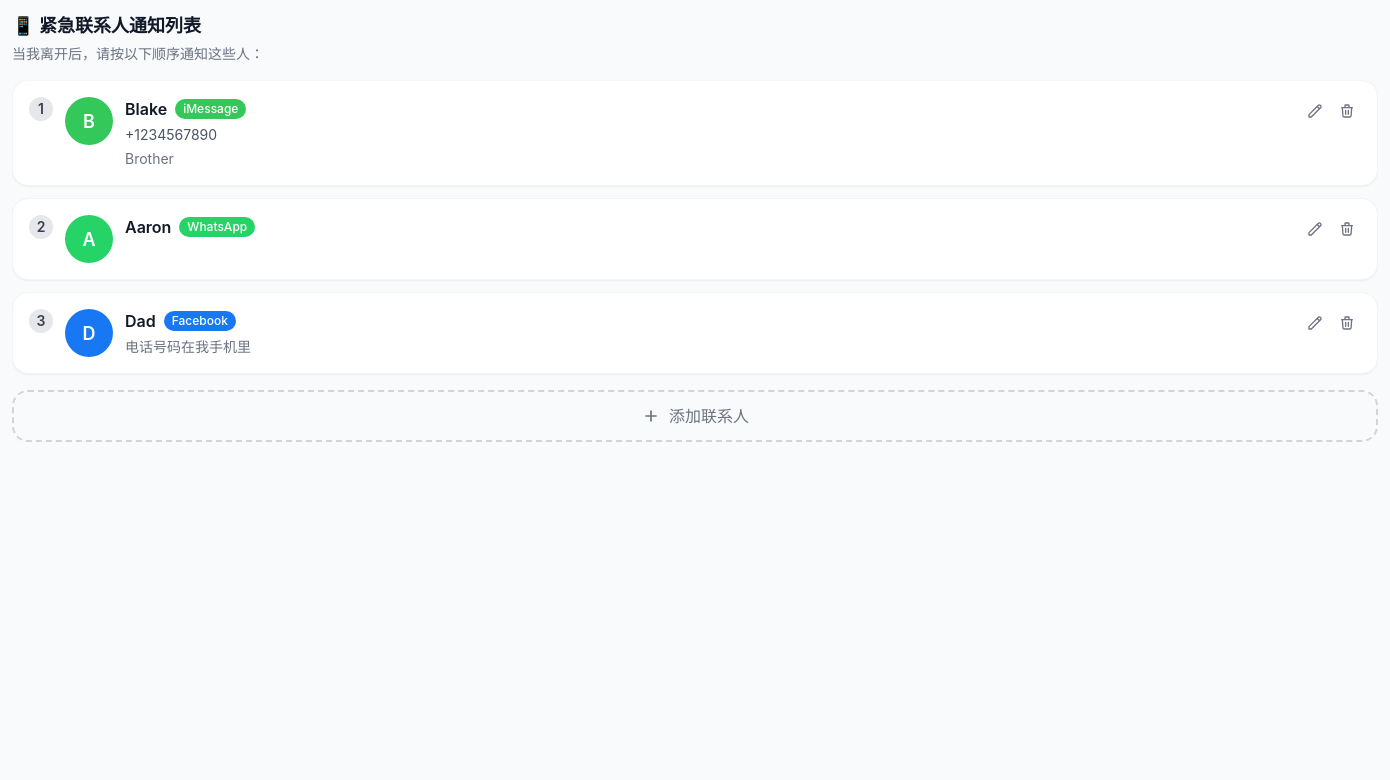
Scenario: ContactBubbleList › Edit Contact › should close form when cancelled
Click the button with test id "contact-edit-button" in the row of "iMessage".
click(1315, 111)  # box [1301,97,1329,125]
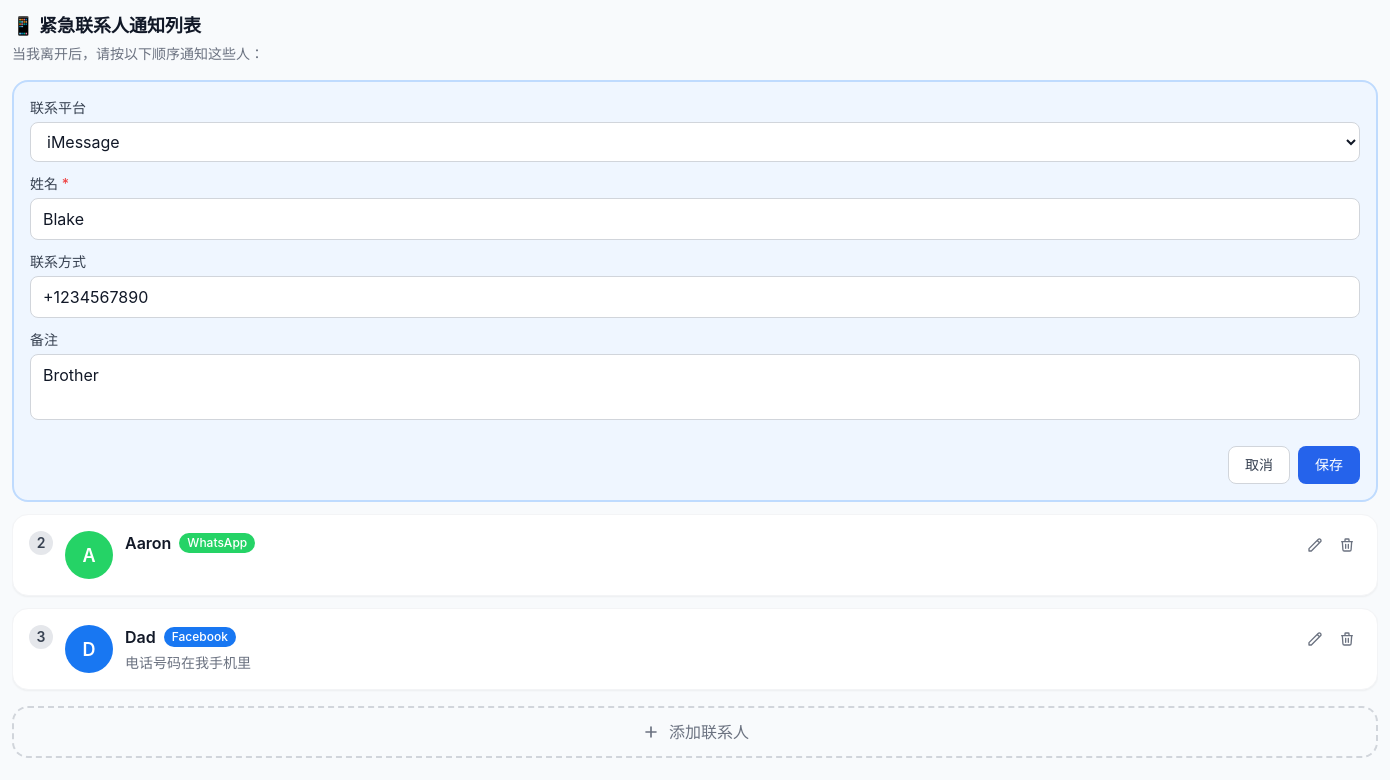
Click the button with test id "contact-cancel-button".
click(1259, 465)  # box [1228,446,1290,484]
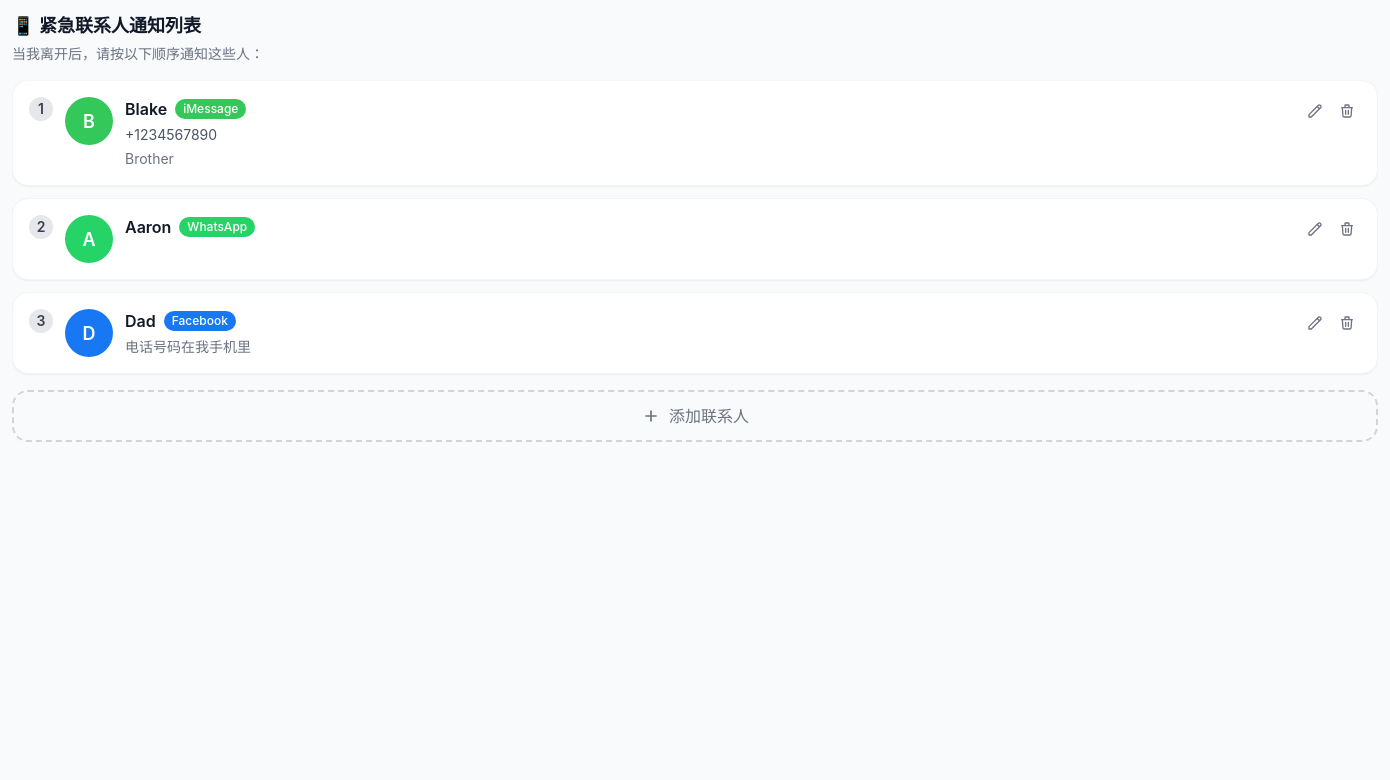
Expected: the form with test id "contact-bubble-form" is gone
Expected: the number of elements with test id "contact-bubble" is 3, [12,80,1378,186]; [12,198,1378,280]; [12,292,1378,374]
